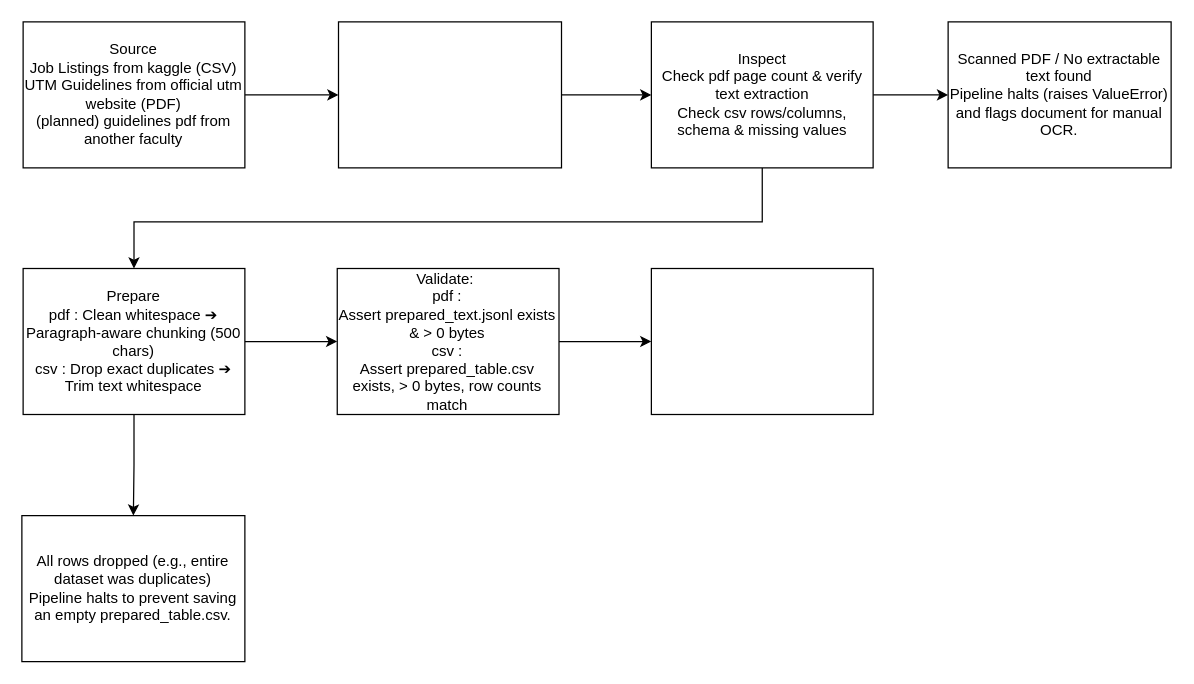
The diagram is 1194 pixels wide and 684 high, and some of its shapes have lost their labels. The shapes that lost their labels are listed below. From the top down, each one's centre as x and y in pixels, then its label:
At pixel 449 94: "Ingest Load files into Colab (data/raw/)".
At pixel 761 340: "Record Lineage: Calculate SHA-256 hashes ➔ Save week3_manifest.json".
